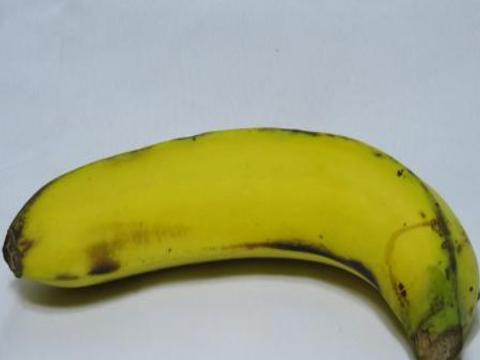freshripe: (4, 114, 479, 356)
